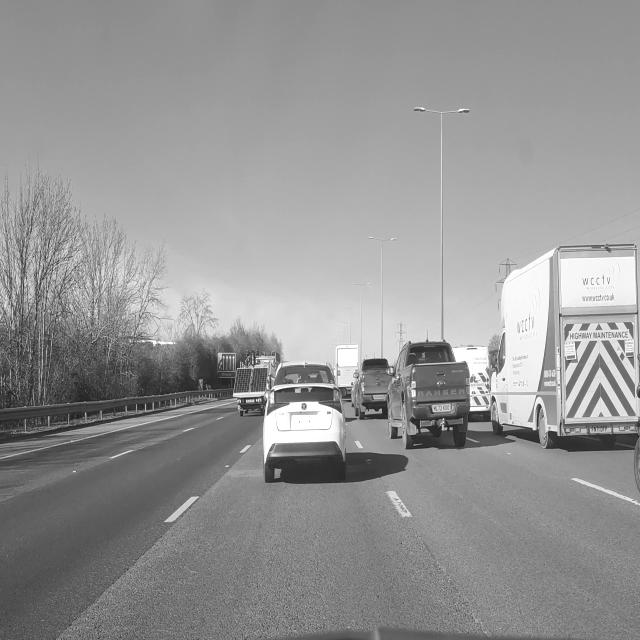car: (485, 243, 640, 451), (386, 336, 473, 457), (263, 361, 346, 482), (354, 354, 393, 421)
